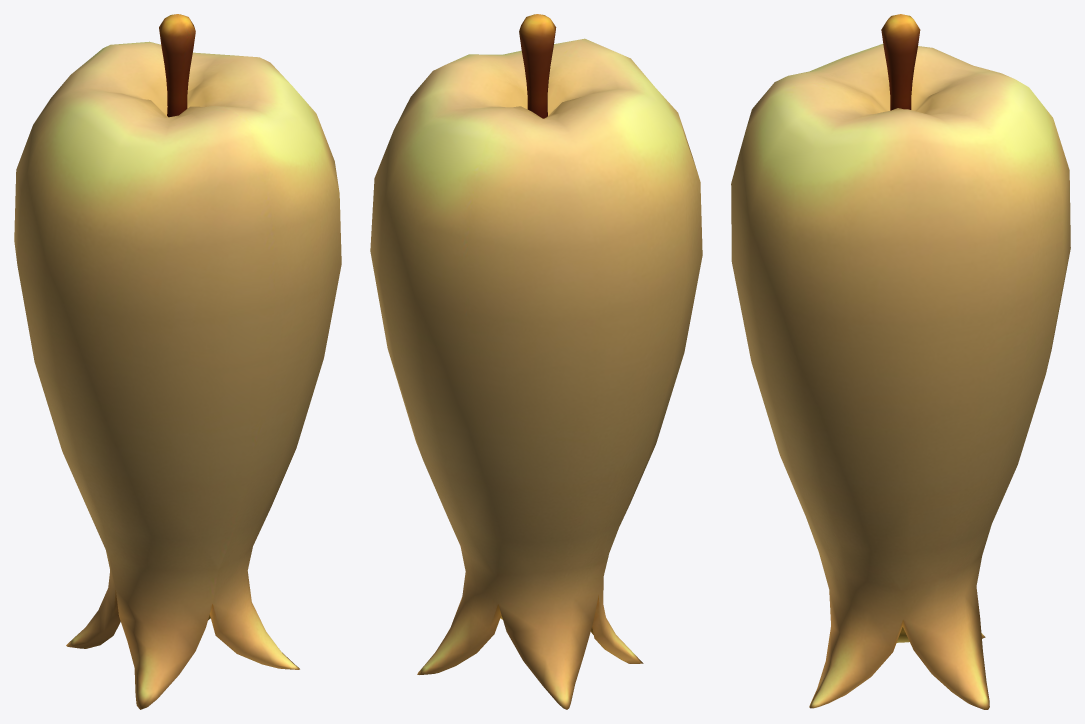
Rendered from Long_Apple_dream.glb.
3 renders of one model, left to right at view 1: azimuth 30°, elevation 25°; view 2: azimuth 150°, elevation 25°; view 3: azimuth 270°, elevation 25°, orthographic. The views are drawn at different scales.
Parts seen in each view (by area): view 1: Long_Apple; view 2: Long_Apple; view 3: Long_Apple.
Part boxes in pixels (left/top/right/bottom): Long_Apple: left=14, top=14, right=341, bottom=709; Long_Apple: left=370, top=14, right=702, bottom=709; Long_Apple: left=731, top=14, right=1070, bottom=709.
Bounding box in the file's own units: 1.07 × 2.35 × 1.09.
1 material, 1 textured.
